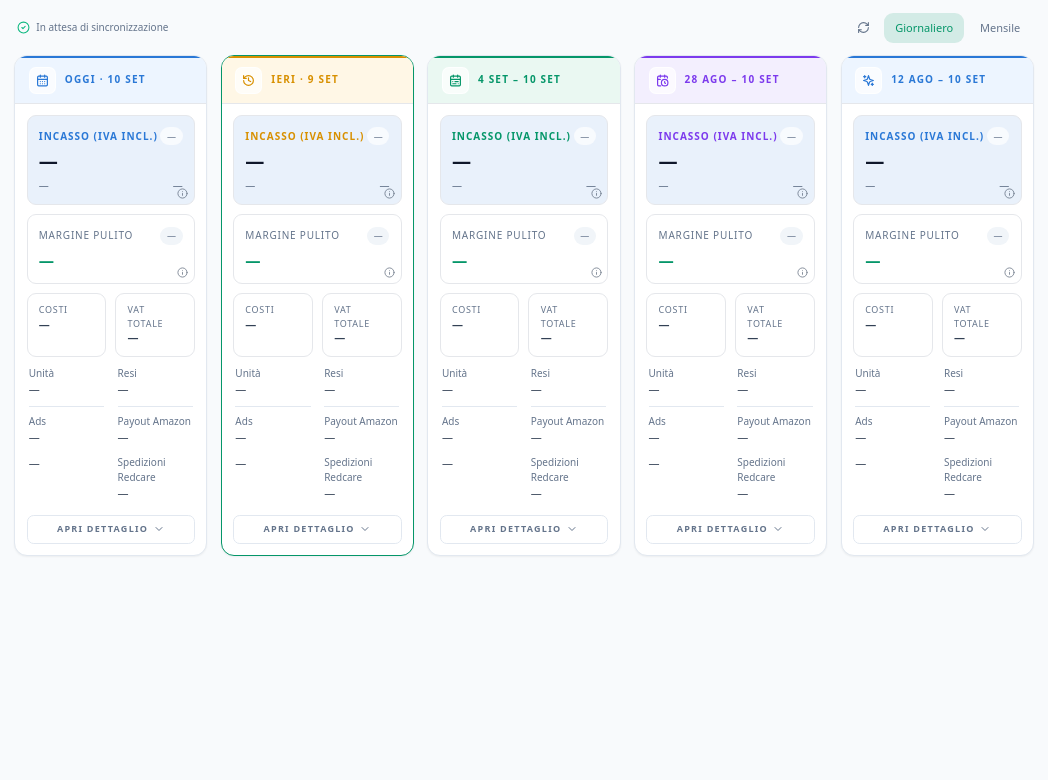
PeriodTiles › monthly set — Proiezione mese (forecast) and always-on per-tile comparison › adds a Proiezione mese tile projecting month-to-date run-rate to the full month
What coordinates should you click on to do the following:
click the button "Mensile"
I would click on:
 (1000, 28)
Its box is [969,13,1032,43].
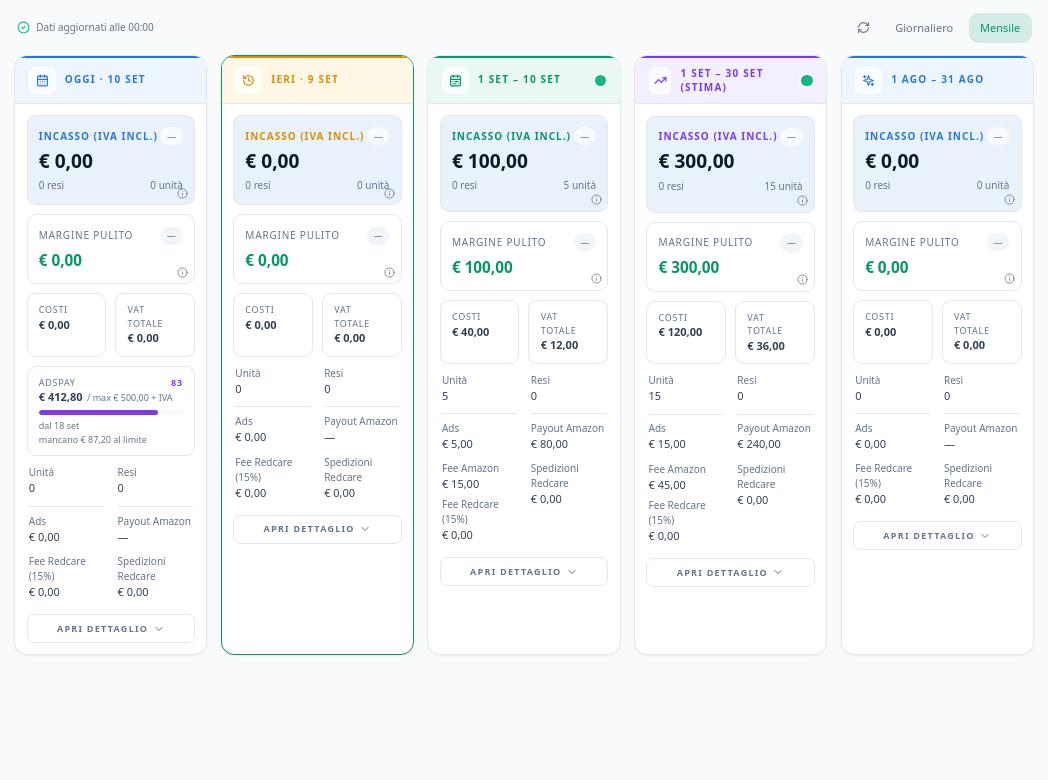
Result: the button with aria-label "proiezione mese" is shown at [634,55,827,655]
Result: the 1st text "€ 300,00" is shown at [658,148,734,174]
